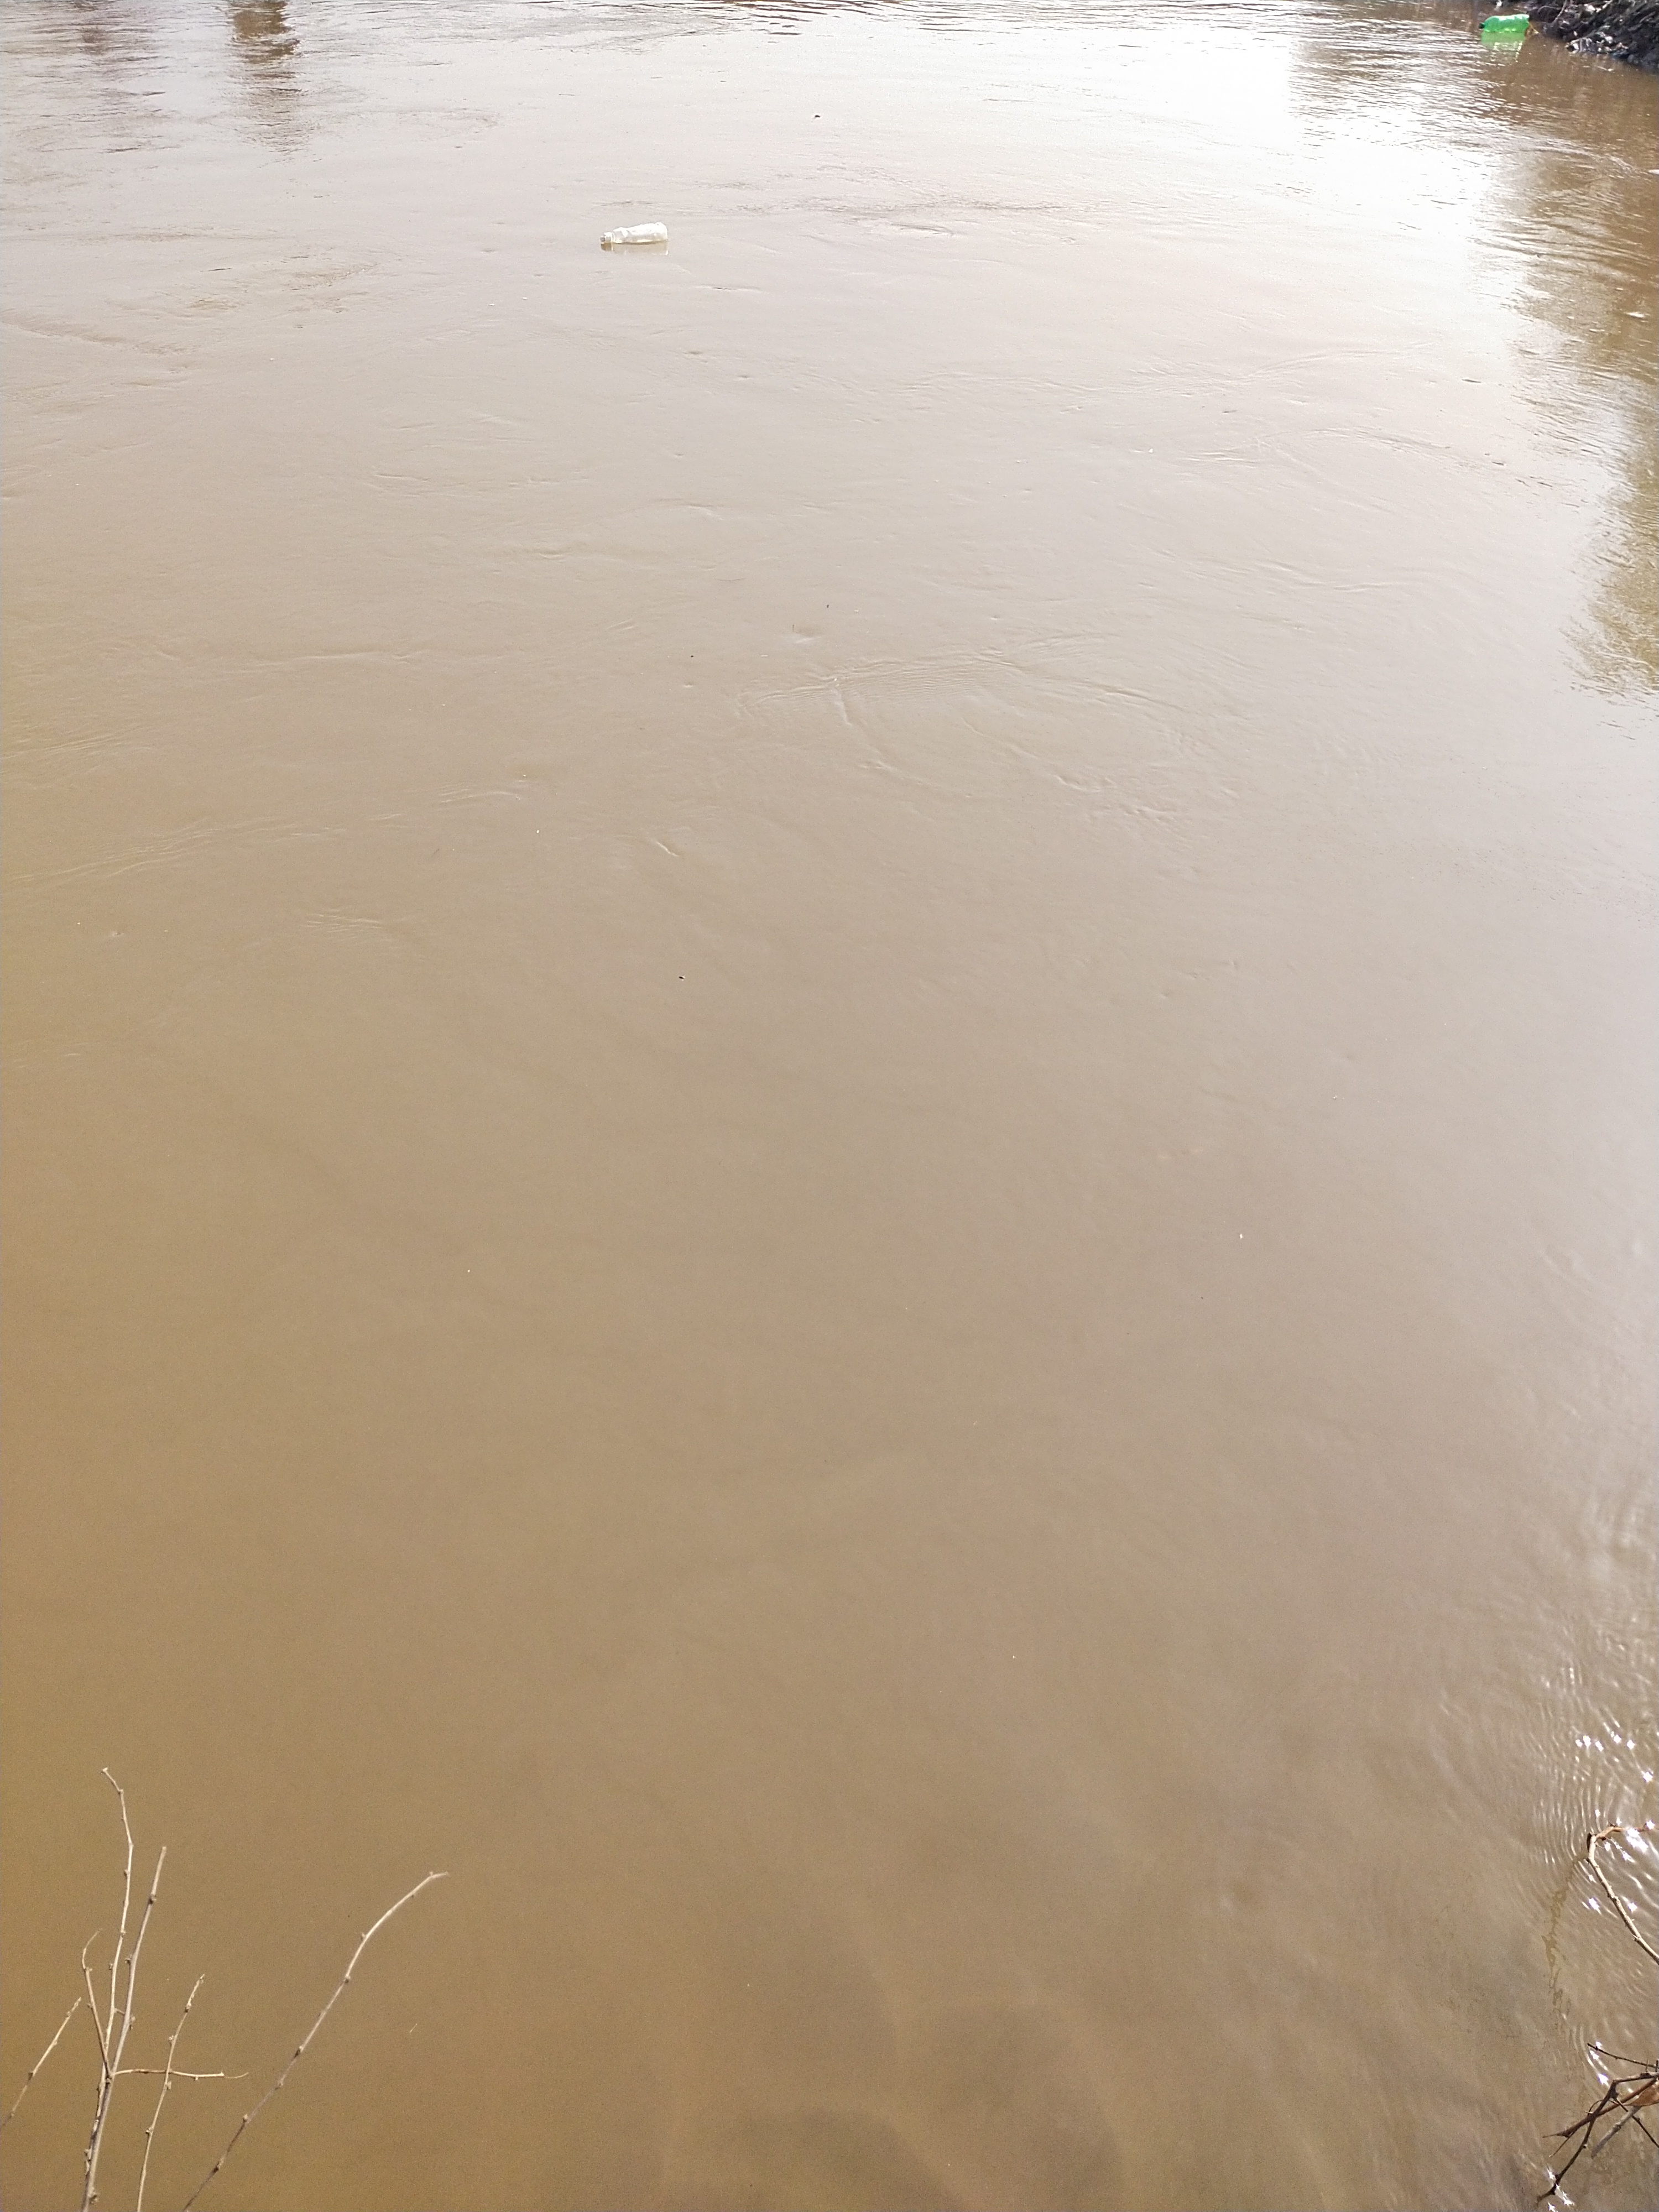Plastic Bottle: (599, 221, 669, 244), (1478, 14, 1528, 33)
